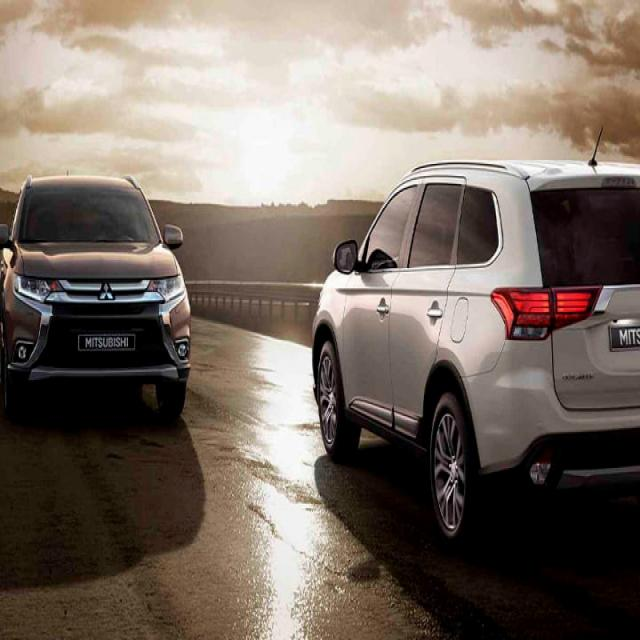SUV: (313, 162, 640, 548), (3, 167, 196, 422)
